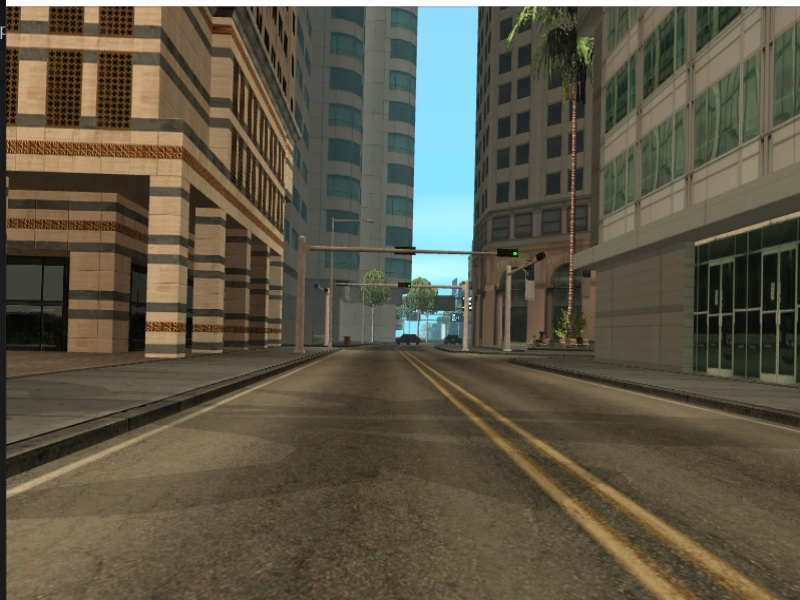pole: (296, 235, 311, 354), (502, 263, 514, 354), (328, 216, 336, 351), (461, 281, 473, 354), (358, 289, 369, 344), (323, 285, 332, 348)
vehicle: (395, 330, 420, 349), (444, 333, 459, 346)
